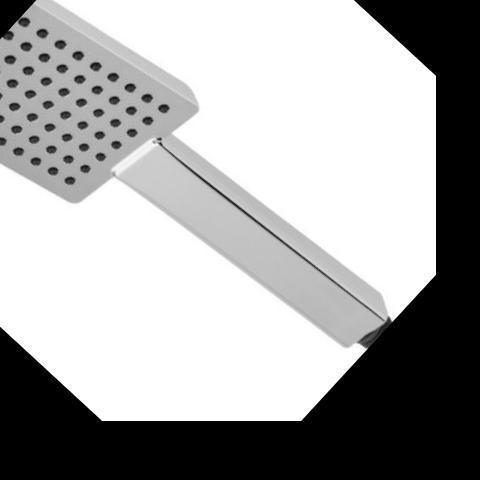Ducha: (0, 0, 423, 460)
